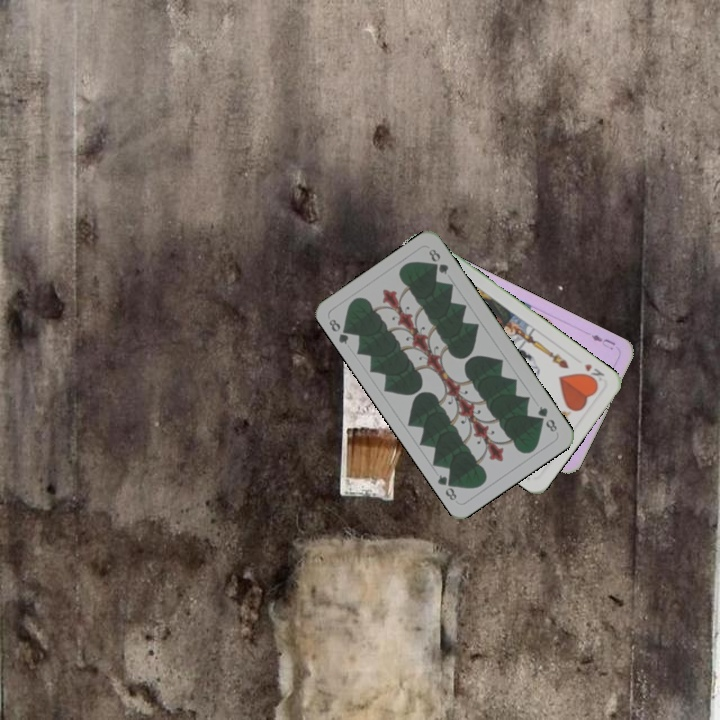EU: (587, 330, 618, 352)
G8: (325, 315, 354, 347), (533, 402, 560, 435)
HK: (579, 360, 607, 386)
